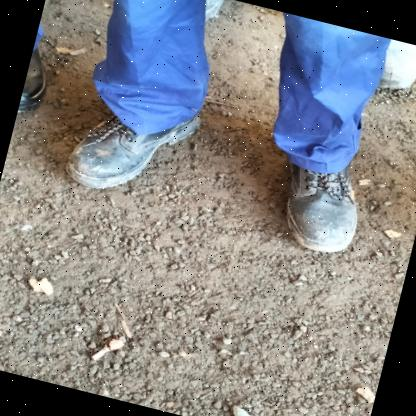bota: (53, 82, 206, 212), (277, 153, 381, 260)
